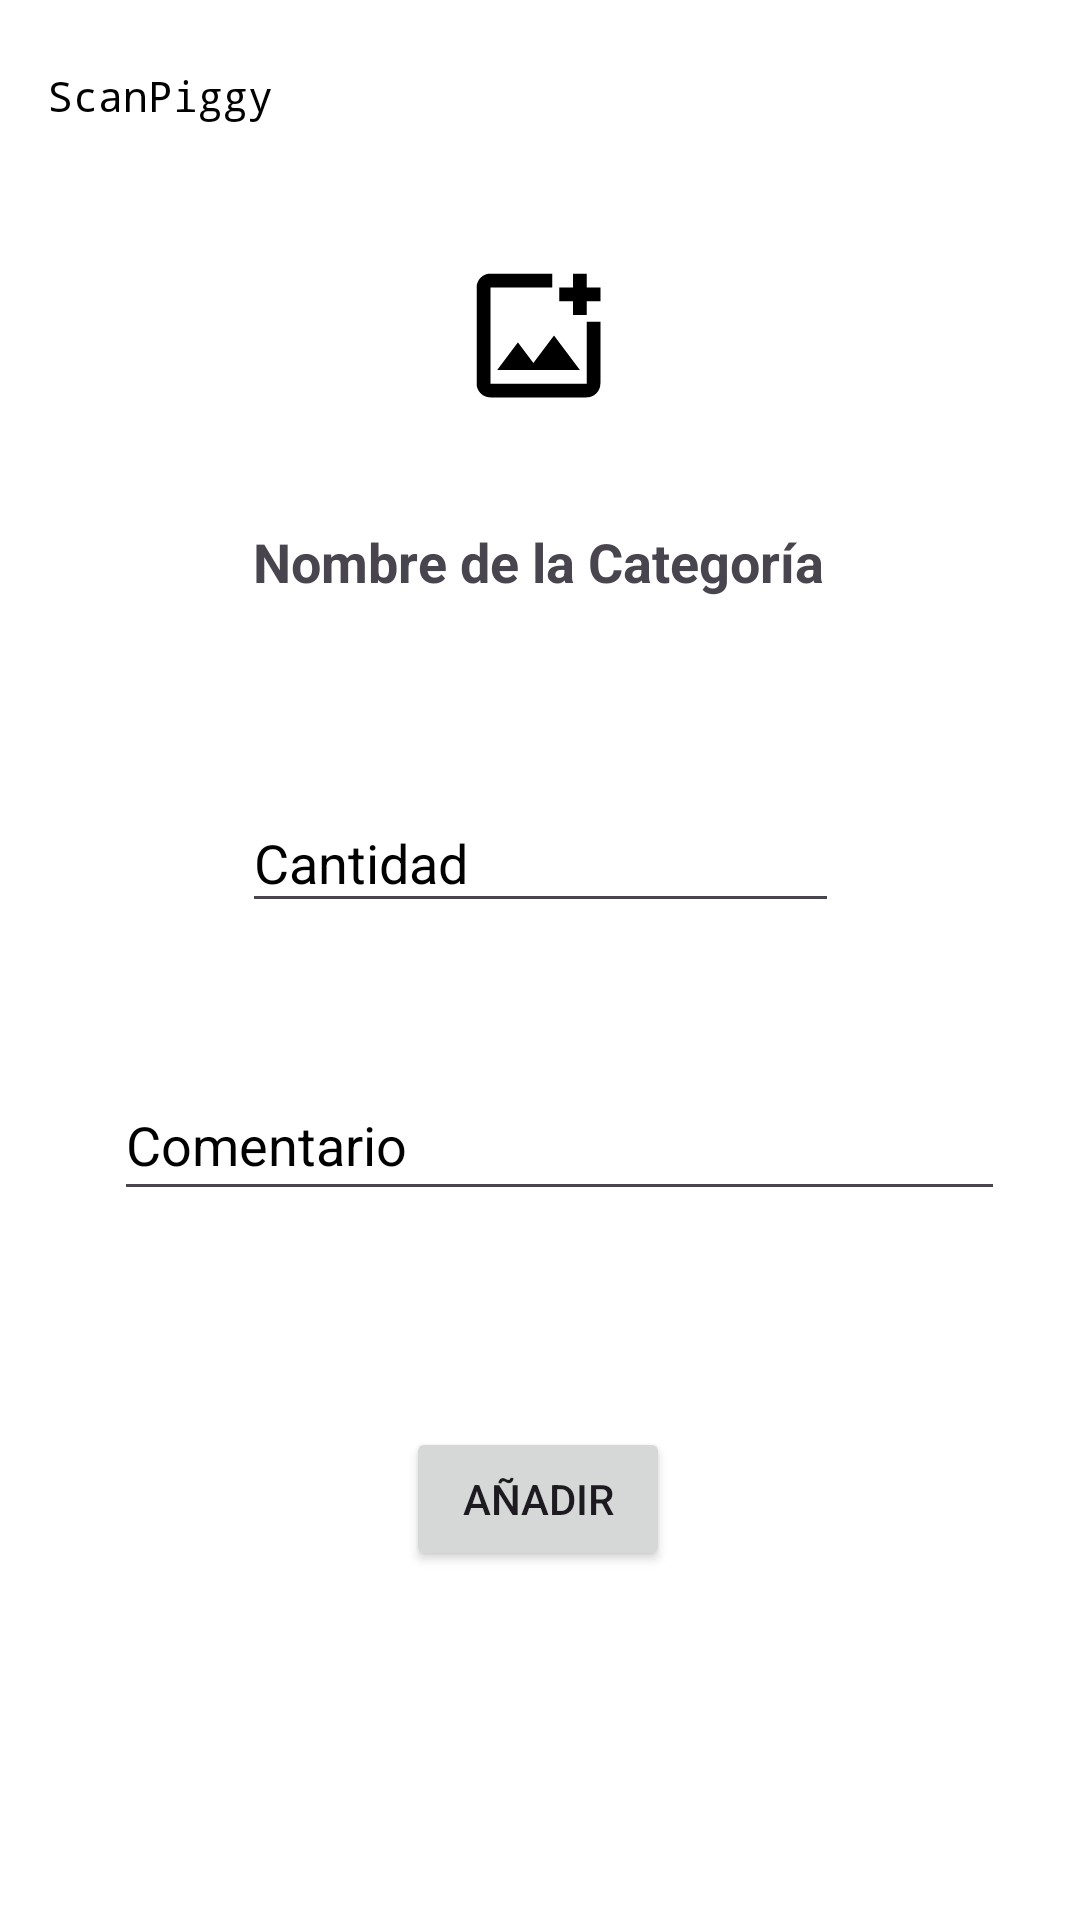

Locate icon controls on the screen. Image size 1080px x 1920px, boxes as (x1, y1, x2, y2).
addphotoalternate: (476, 273, 601, 398)
